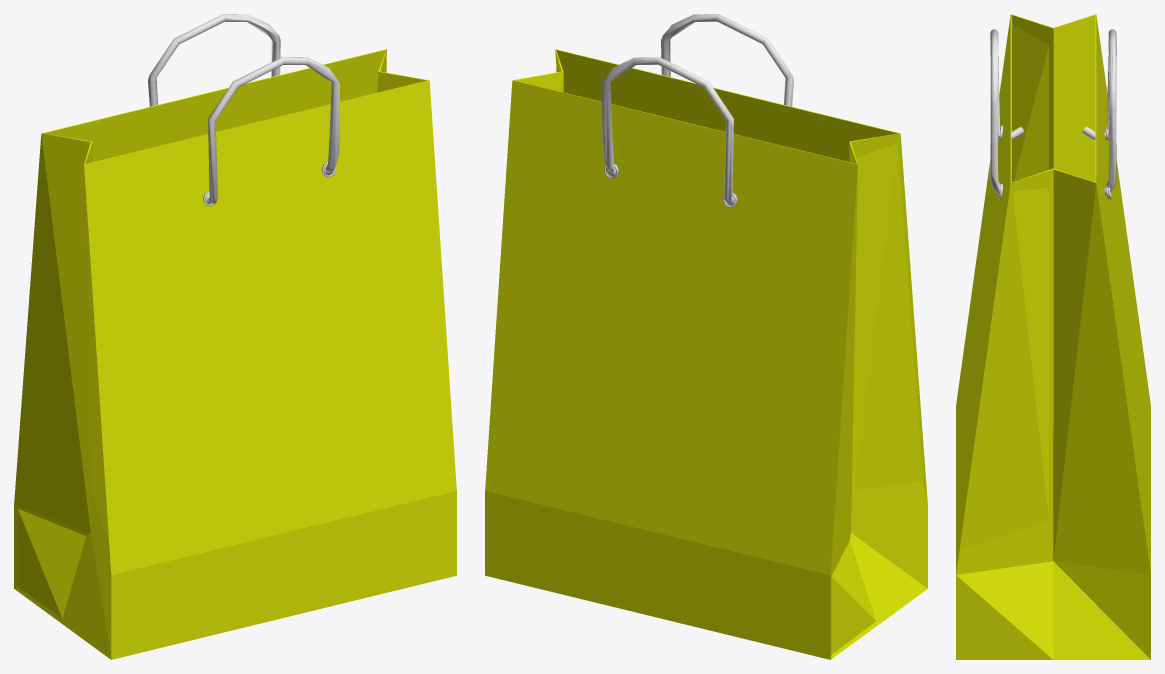
The model's file is shopping_bag.fbx.
3 renders of one model, left to right at view 1: azimuth 30°, elevation 25°; view 2: azimuth 150°, elevation 25°; view 3: azimuth 270°, elevation 25°, orthographic.
Parts seen in each view (by area): view 1: shopping_bag; view 2: shopping_bag; view 3: shopping_bag.
Boxes of the visible parts, bbox=[...] form: shopping_bag: bbox=[14, 14, 456, 659]; shopping_bag: bbox=[485, 14, 927, 659]; shopping_bag: bbox=[956, 14, 1150, 659].
Bounding box in the file's own units: 80 × 120 × 38.97.
